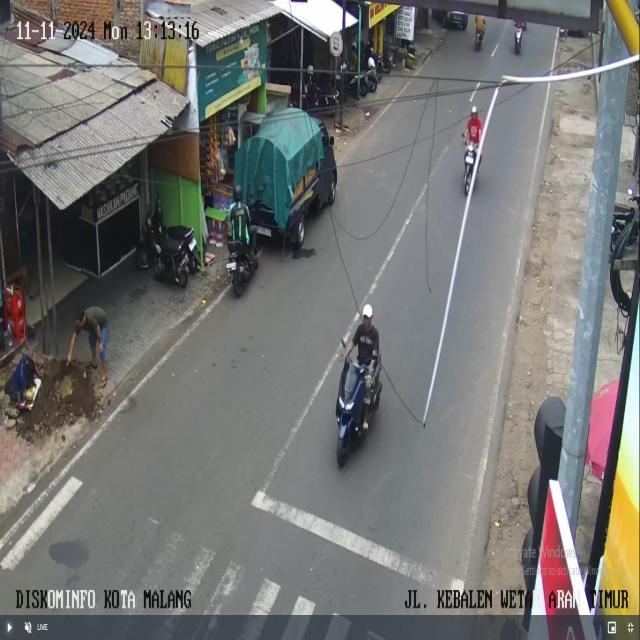Helmet: (233, 184, 242, 201), (362, 304, 372, 317), (471, 105, 478, 115), (307, 64, 313, 74)
Number Plate: (256, 226, 271, 236), (226, 262, 237, 271), (189, 239, 195, 250), (465, 156, 473, 164)
Rearview Mirror: (627, 187, 633, 196), (329, 136, 333, 145)
